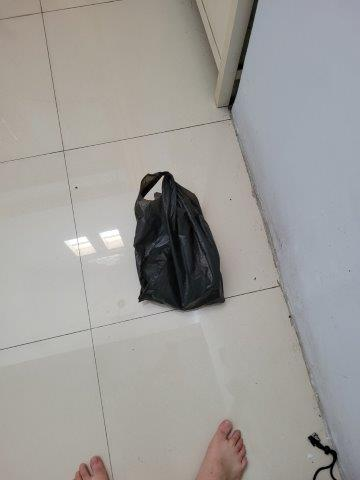plastik: (133, 175, 227, 310)
